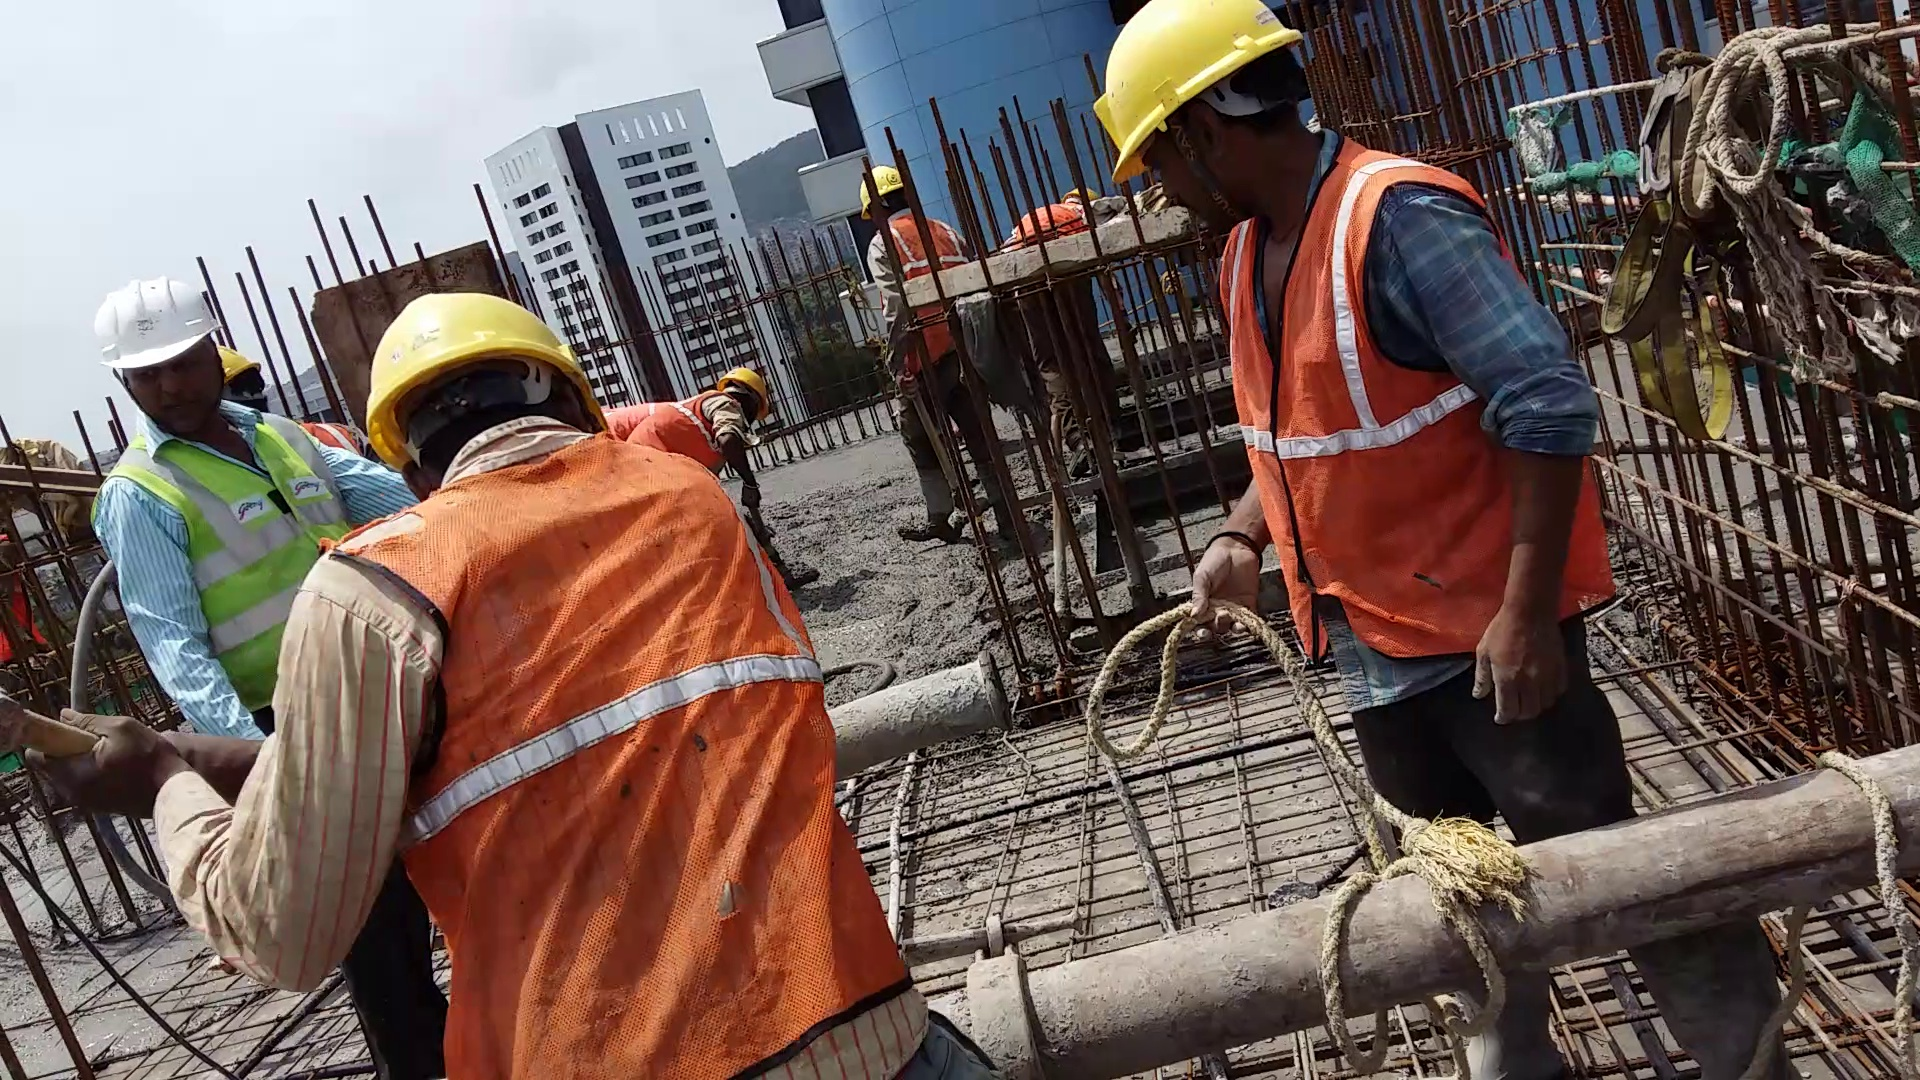SAFE: (338, 255, 849, 1080), (1106, 1, 1510, 667), (84, 272, 339, 735)
